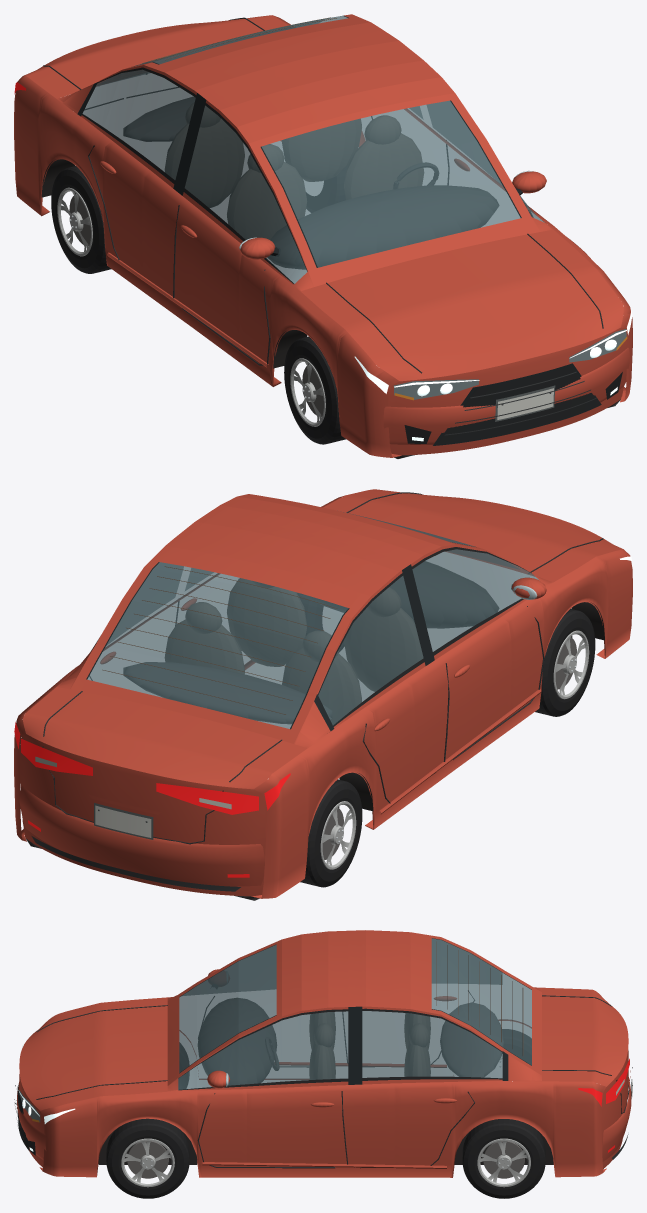
File: city-sedan.glb
The picture shows the model from 3 angles, top to bottom: view 1: azimuth 30°, elevation 25°; view 2: azimuth 150°, elevation 25°; view 3: azimuth 270°, elevation 25°; orthographic projection. The views are drawn at different scales.
Parts seen in each view (by area): view 1: city-sedan, wheel_FR, wheel_RR, wheel_RL; view 2: city-sedan, wheel_RR, wheel_FR; view 3: city-sedan, wheel_FL, wheel_RL, wheel_RR.
Part boxes in pixels (x1,y1,x2,y2): city-sedan: (14, 14, 632, 458); wheel_FR: (284, 336, 345, 444); wheel_RR: (51, 166, 111, 273); wheel_RL: (306, 166, 346, 212); city-sedan: (14, 489, 632, 900); wheel_RR: (300, 779, 362, 887); wheel_FR: (535, 608, 595, 716); city-sedan: (14, 930, 632, 1177); wheel_FL: (106, 1118, 189, 1198); wheel_RL: (462, 1119, 545, 1198); wheel_RR: (500, 1029, 531, 1066).
Size of the model in its own units: 1.92 by 1.48 by 4.43.
